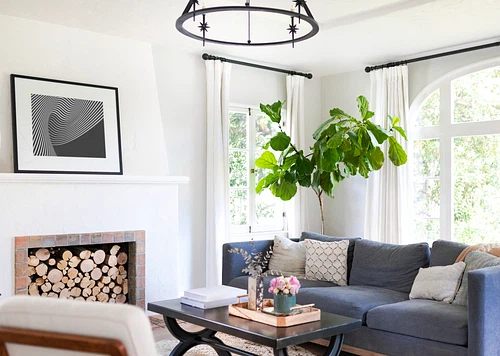chair: (0, 293, 162, 356)
flower vase: (227, 235, 269, 311), (267, 270, 301, 315)
large plant: (251, 94, 409, 234)
sofa: (221, 230, 500, 354)
table: (146, 292, 364, 355)
wall art: (8, 72, 125, 176)
